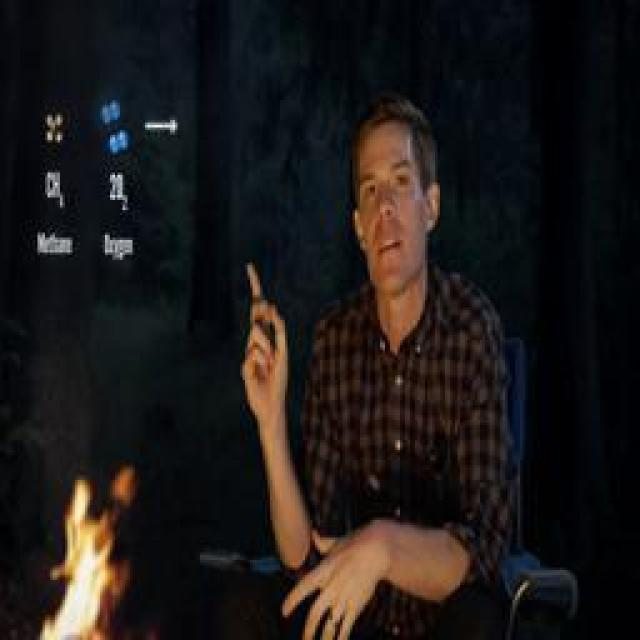Fire: (36, 472, 134, 640)
